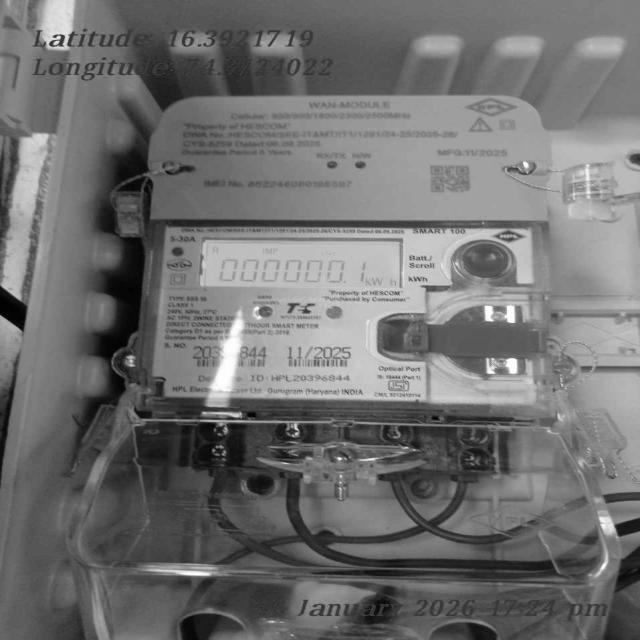meter: (156, 95, 544, 402)
